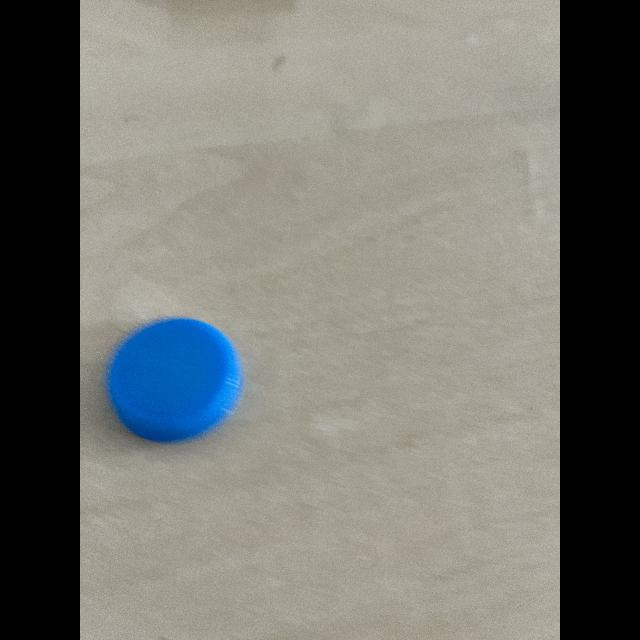plastic_bottle_cap: (100, 302, 248, 448)
